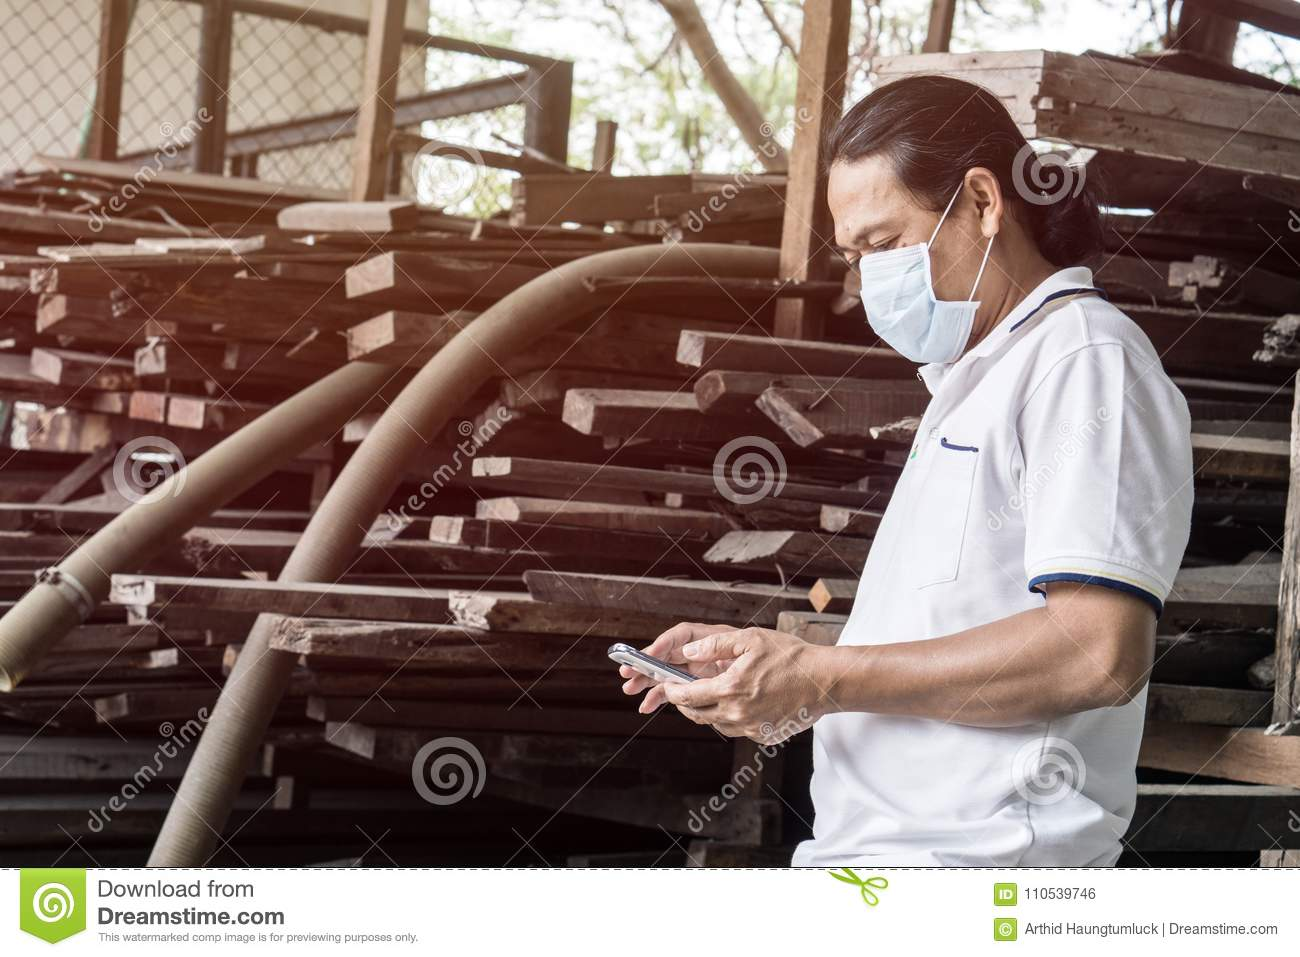mask: (860, 247, 974, 367)
